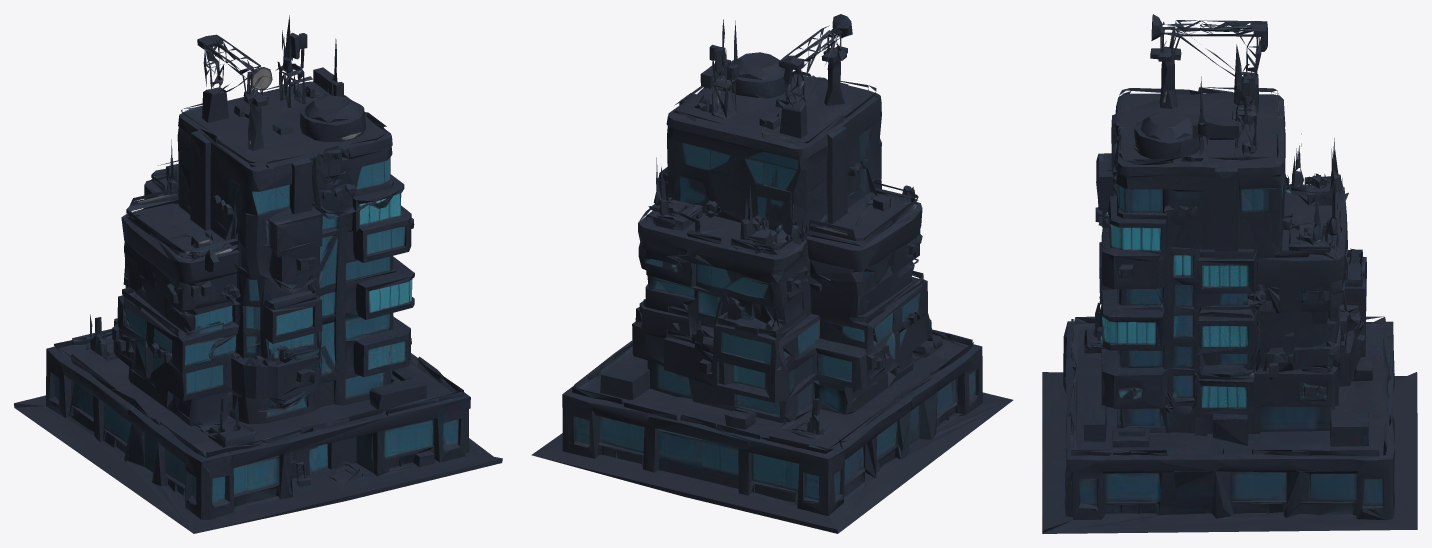
The model's file is cyber-tower-wide.glb.
3 views of the same model, side by side, from view 1: azimuth 30°, elevation 25°; view 2: azimuth 150°, elevation 25°; view 3: azimuth 270°, elevation 25° (orthographic). The views are drawn at different scales.
Visible parts, largest first — view 1: mesh_node; view 2: mesh_node; view 3: mesh_node.
Boxes of the visible parts, x1=… form: mesh_node: x1=14, y1=15, x2=502, y2=533; mesh_node: x1=531, y1=14, x2=1013, y2=533; mesh_node: x1=1042, y1=14, x2=1417, y2=533.
Bounding box in the file's own units: 1.5 × 1.9 × 1.51.
Materials: 1 (1 with a texture image).
